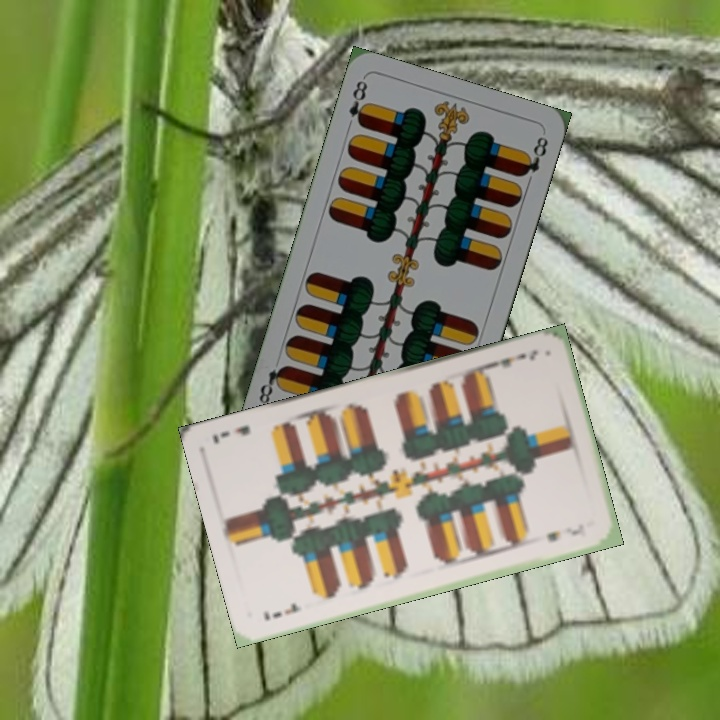E7: (487, 346, 541, 371), (259, 599, 302, 623)
E8: (344, 76, 372, 130)
